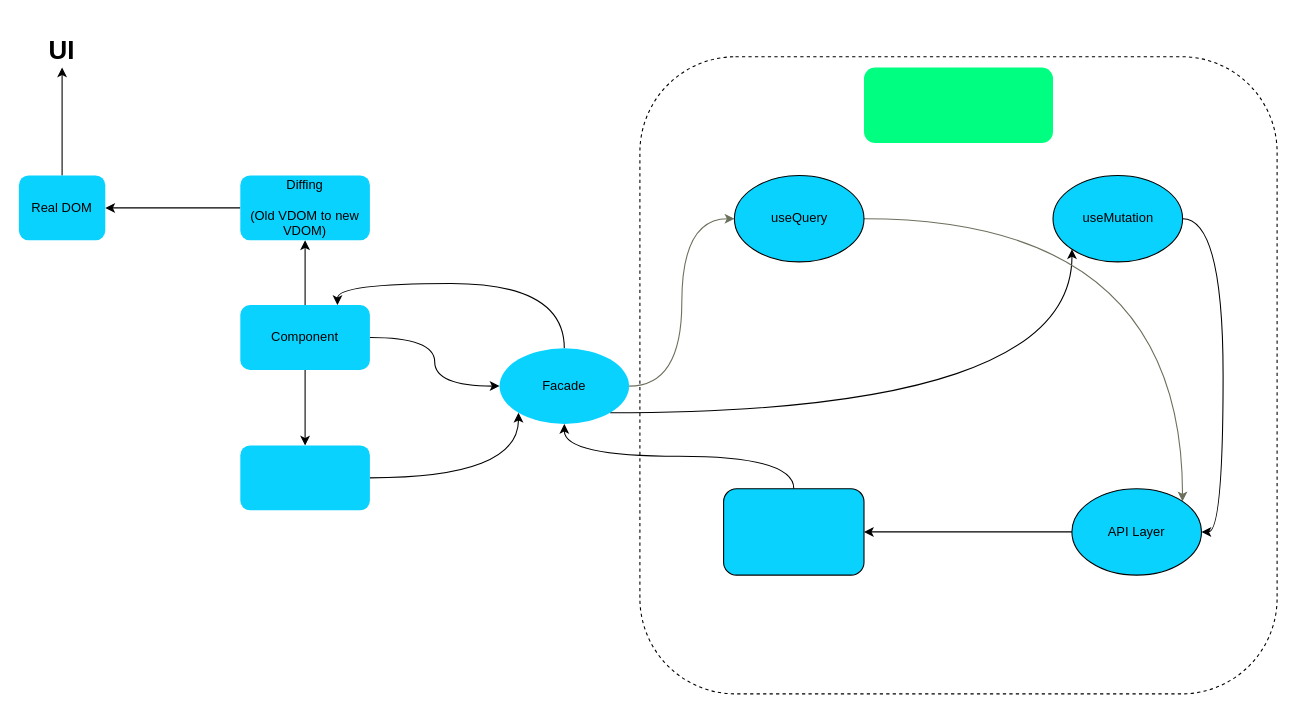
The diagram is 1296 pixels wide and 713 high, and some of its shapes have lost their labels. The centre of each missing label's shape, as x and y in pixels:
Apollo: the point at 957,105
Events / Handlers (user interaction): the point at 304,477
QueryClient / AC3 (Cache/server state): the point at 793,531
